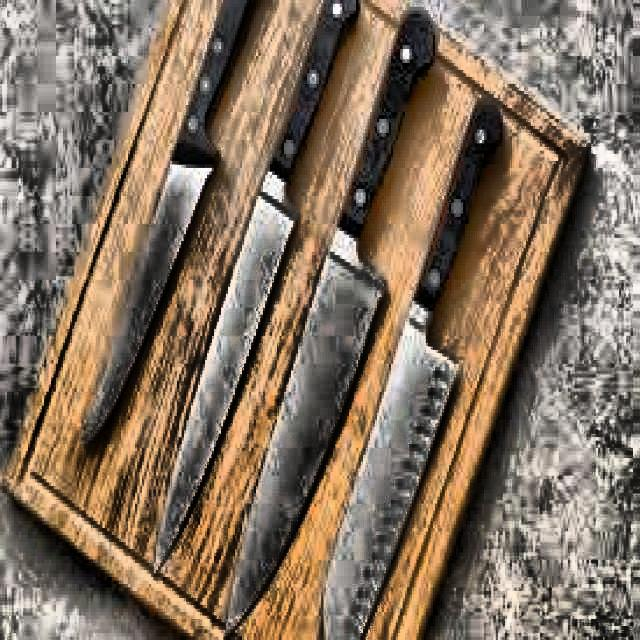knife: (219, 6, 441, 640), (154, 0, 366, 579), (317, 97, 509, 640), (73, 3, 271, 458)
